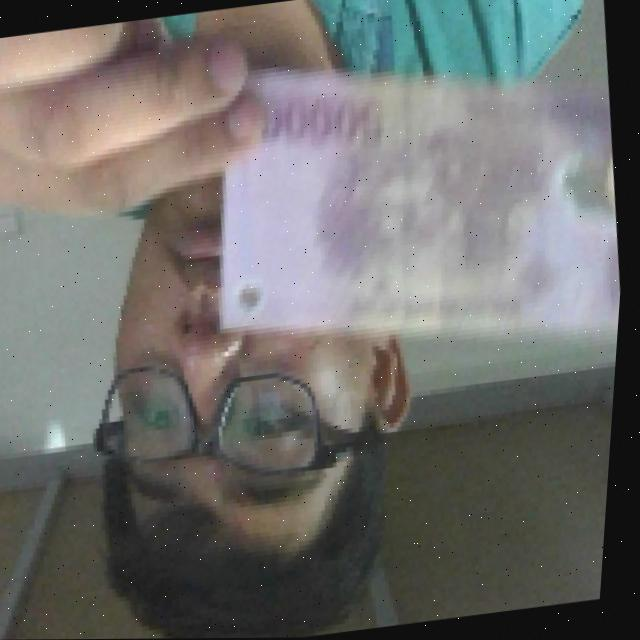50 000 VND: (184, 15, 639, 395)
